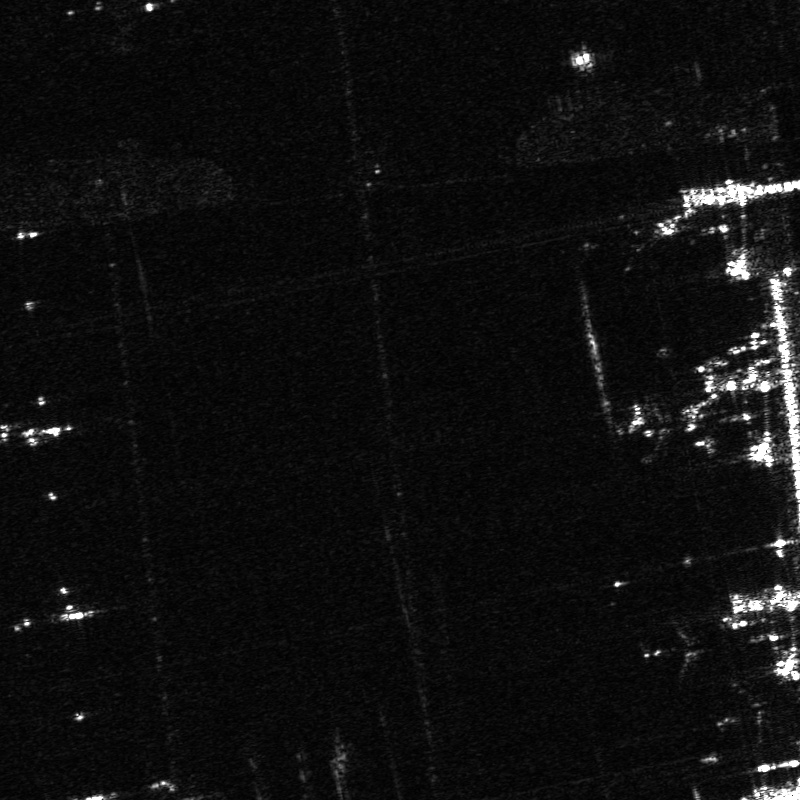Boeing787: (643, 618, 715, 686), (711, 679, 780, 746)
